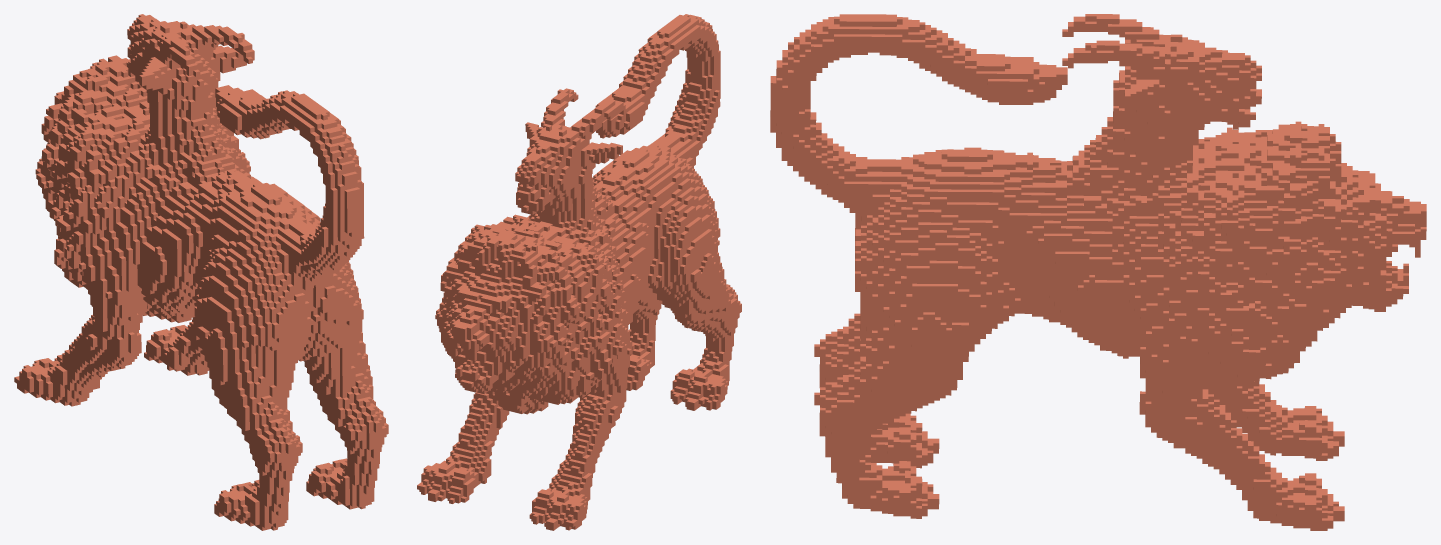
File: Quimera.fbx
3 views of the same model, side by side, from view 1: azimuth 30°, elevation 25°; view 2: azimuth 150°, elevation 25°; view 3: azimuth 270°, elevation 25° (orthographic). The views are drawn at different scales.
Visible parts, largest first — view 1: Quimera; view 2: Quimera; view 3: Quimera.
Part boxes in pixels (bbox=[...]): Quimera: bbox=[14, 14, 388, 530]; Quimera: bbox=[417, 14, 741, 530]; Quimera: bbox=[770, 14, 1426, 530].
Size of the model in its own units: 1.56 by 3.41 by 4.37.
